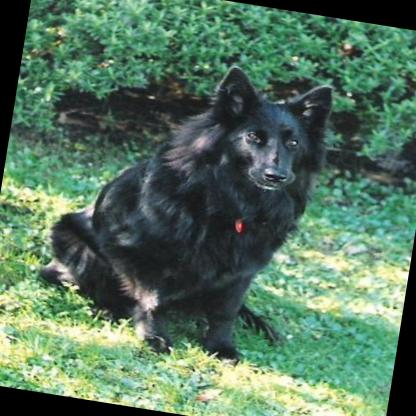groenendael: (31, 40, 338, 375)
